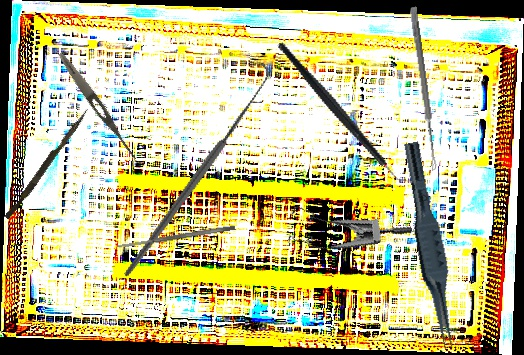Chopper: (277, 16, 414, 212)
Dressing Forceps: (54, 49, 142, 163)
Hook Surgical: (67, 61, 324, 279)
Pusher: (4, 105, 90, 222)
Spatula Surgical: (116, 224, 236, 250)
Speculum: (279, 176, 413, 269)
Surgical Spoon: (408, 6, 440, 172)
Tissue Forceps: (391, 140, 467, 351)
